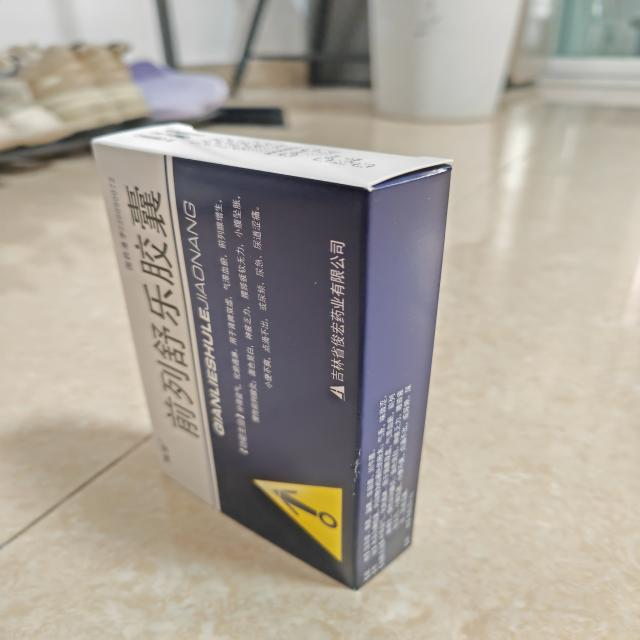box: (87, 119, 460, 595)
